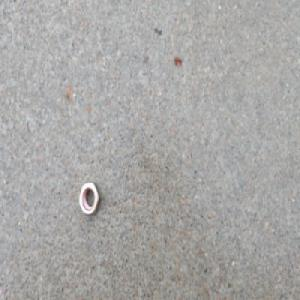Nut: (77, 178, 100, 216)
